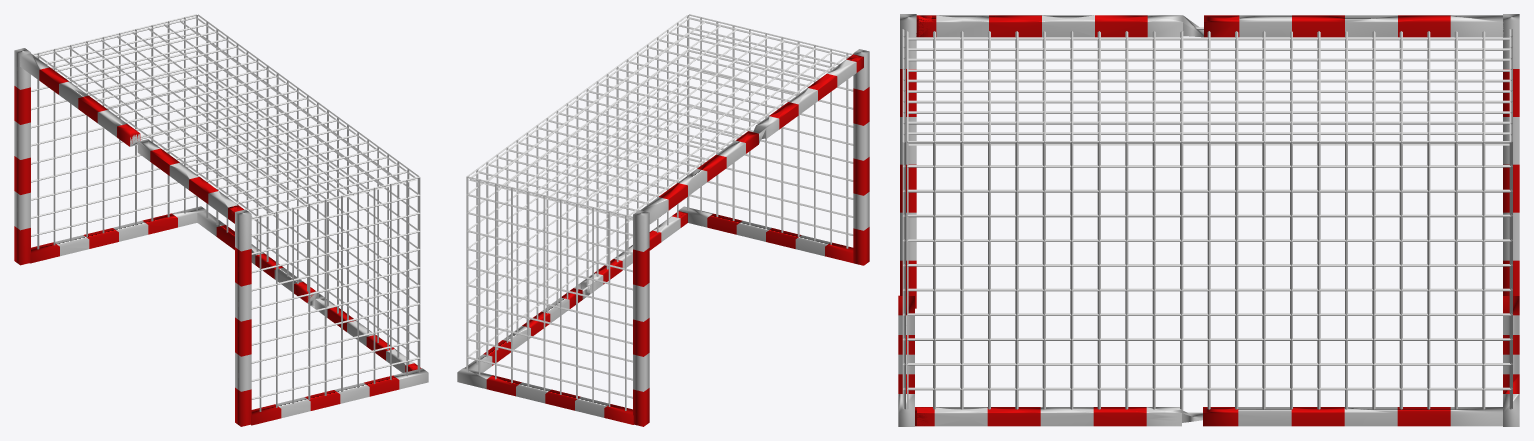
File: futsal-goal.glb
The picture shows the model from 3 angles, left to right: view 1: azimuth 30°, elevation 25°; view 2: azimuth 150°, elevation 25°; view 3: azimuth 270°, elevation 25°; orthographic projection. The views are drawn at different scales.
Parts seen in each view (by area): view 1: Plane.007_Material.009_0, Cube.006_Material.004_0, Cube.006_Material.005_0, Cube.006_Material.007_0, Cube.006_Material.006_0; view 2: Plane.007_Material.009_0, Cube.006_Material.004_0, Cube.006_Material.005_0, Cube.006_Material.006_0, Cube.006_Material.007_0; view 3: Plane.007_Material.009_0, Cube.006_Material.004_0, Cube.006_Material.007_0, Cube.006_Material.005_0, Cube.006_Material.006_0.
Boxes of the visible parts, <box> form: Plane.007_Material.009_0: <box>31,14,420,411</box>; Cube.006_Material.004_0: <box>14,67,421,426</box>; Cube.006_Material.005_0: <box>14,110,414,418</box>; Cube.006_Material.007_0: <box>14,48,428,389</box>; Cube.006_Material.006_0: <box>14,81,373,403</box>; Plane.007_Material.009_0: <box>466,14,853,410</box>; Cube.006_Material.004_0: <box>483,54,869,426</box>; Cube.006_Material.005_0: <box>541,59,869,417</box>; Cube.006_Material.006_0: <box>503,88,869,403</box>; Cube.006_Material.007_0: <box>457,49,869,388</box>; Plane.007_Material.009_0: <box>902,27,1512,413</box>; Cube.006_Material.004_0: <box>898,15,1519,426</box>; Cube.006_Material.007_0: <box>898,14,1519,426</box>; Cube.006_Material.005_0: <box>898,15,1519,426</box>; Cube.006_Material.006_0: <box>898,15,1519,426</box>.
Bounding box in the file's own units: 1.86 × 2.01 × 3.92.
